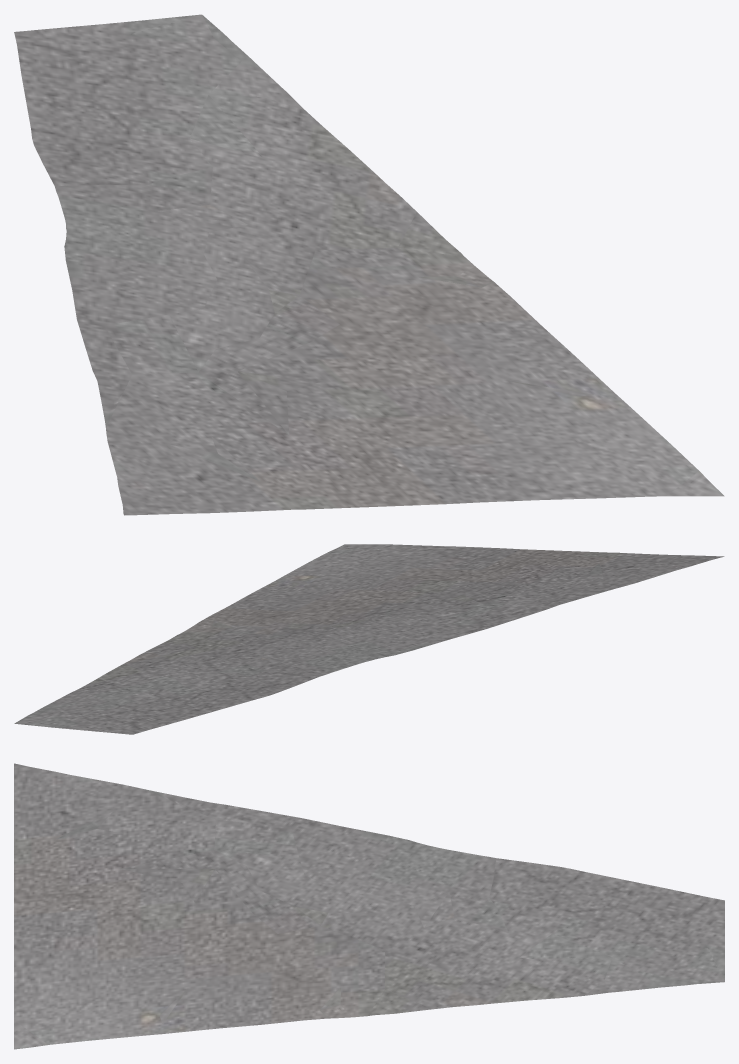
The picture shows the model from 3 angles, top to bottom: view 1: azimuth 30°, elevation 25°; view 2: azimuth 150°, elevation 25°; view 3: azimuth 270°, elevation 25°; orthographic projection. The views are drawn at different scales.
Bounding box in the file's own units: 2.22 × 0.4507 × 3.35.
1 material, 1 textured.
